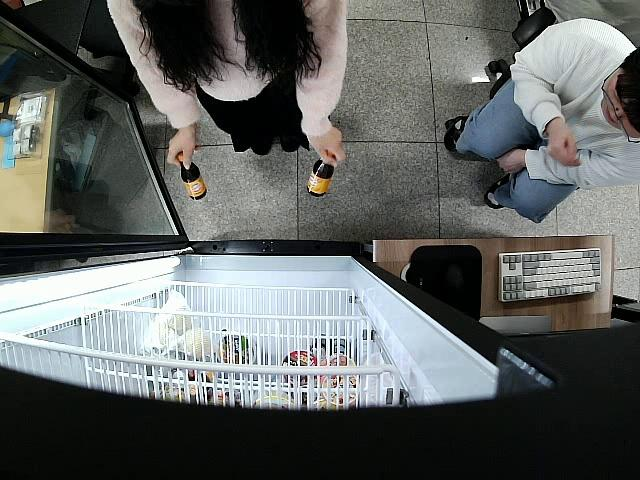00_hand: (311, 128, 351, 167), (164, 134, 200, 174)
17_vita500: (175, 151, 209, 202), (305, 149, 335, 199)
